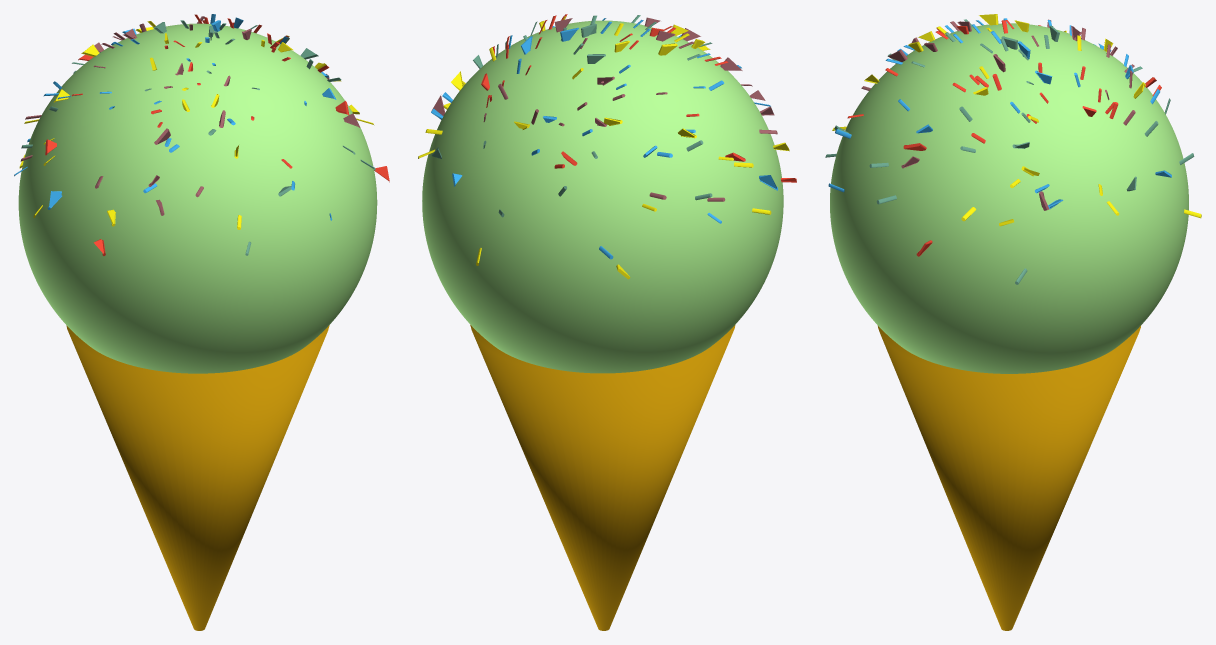
File: icecreamblue.glb
3 views of the same model, side by side, from view 1: azimuth 30°, elevation 25°; view 2: azimuth 150°, elevation 25°; view 3: azimuth 270°, elevation 25° (orthographic).
Visible parts, largest first — view 1: Scoop.001, WaffleCone.001; view 2: Scoop.001, WaffleCone.001; view 3: Scoop.001, WaffleCone.001.
Boxes of the visible parts, box(x1,y1,x2,y2) form: Scoop.001: box(18, 23, 377, 373); WaffleCone.001: box(66, 325, 329, 630); Scoop.001: box(422, 20, 783, 373); WaffleCone.001: box(470, 325, 735, 630); Scoop.001: box(830, 23, 1188, 373); WaffleCone.001: box(877, 325, 1140, 630).
Size of the model in its own units: 1.6 by 2.74 by 1.57.
